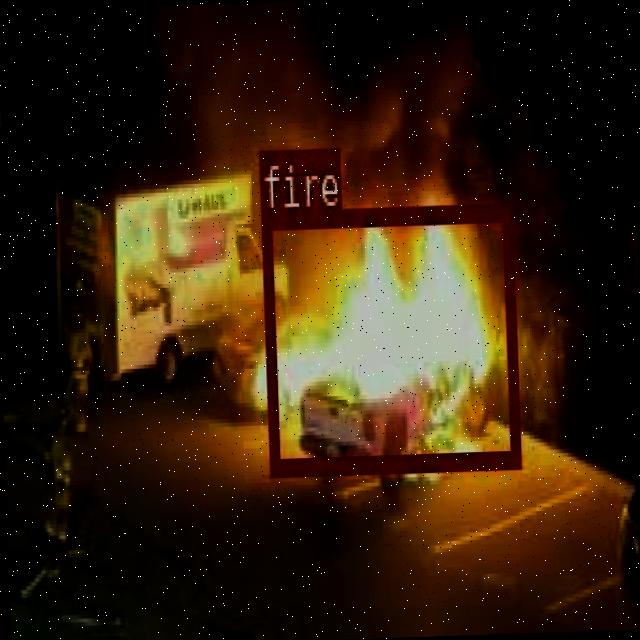fire: (259, 200, 518, 473)
